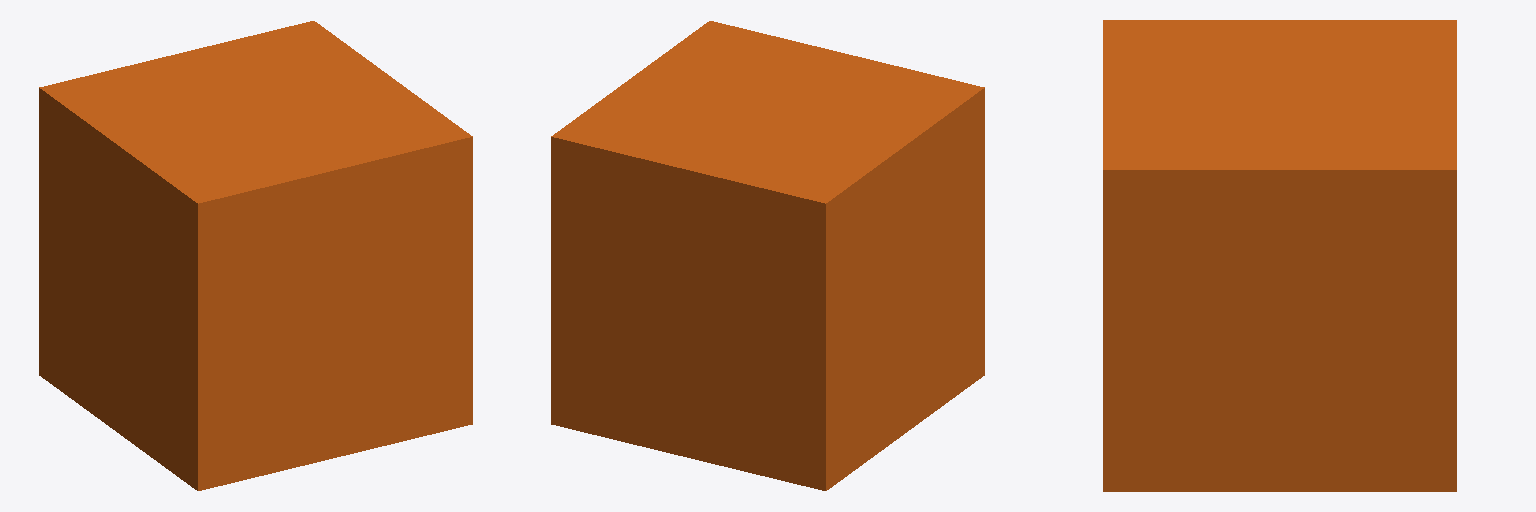
robot.urdf — box:
<?xml version='1.0' encoding='UTF-8'?>
<robot name="box">
  <link name="base_link">
    <inertial>
      <origin xyz="0.0 0.0 0.0" rpy="0.0 -0.0 0.0"/>
      <mass value="1.0"/>
      <inertia ixx="1.0" ixy="0.0" ixz="0.0" iyy="1.0" iyz="0.0" izz="1.0"/>
    </inertial>
    <visual name="base_link_visual">
      <geometry>
        <box size="0.6 0.6 0.6"/>
      </geometry>
      <origin xyz="0 0 0" rpy="0 0 0"/>
      <material name="object_color">
        <color rgba="0.85 0.45 0.15 1"/>
      </material>
    </visual>
    <collision name="base_link_collision">
      <geometry>
        <box size="0.6 0.6 0.6"/>
      </geometry>
      <origin xyz="0 0 0" rpy="0 0 0"/>
    </collision>
  </link>
</robot> 

--- What the picture shows (computed from the rendered views, not written in the file) ---
The picture shows the robot from 3 angles, left to right: view 1: azimuth 30°, elevation 25°; view 2: azimuth 150°, elevation 25°; view 3: azimuth 270°, elevation 25°; orthographic projection.
Robot: box — 1 links, 0 joints (none); root link base_link; default pose: all joints at 0.
Visible links, largest first — view 1: base_link; view 2: base_link; view 3: base_link.
Link boxes in pixels (left/top/right/bottom): base_link: left=39, top=21, right=472, bottom=490; base_link: left=551, top=21, right=984, bottom=490; base_link: left=1103, top=20, right=1456, bottom=491.
Bounding box of the posed robot: 0.6 × 0.6 × 0.6 m (x, y, z).
Geometry: primitives only (box / cylinder / sphere), no mesh files.
